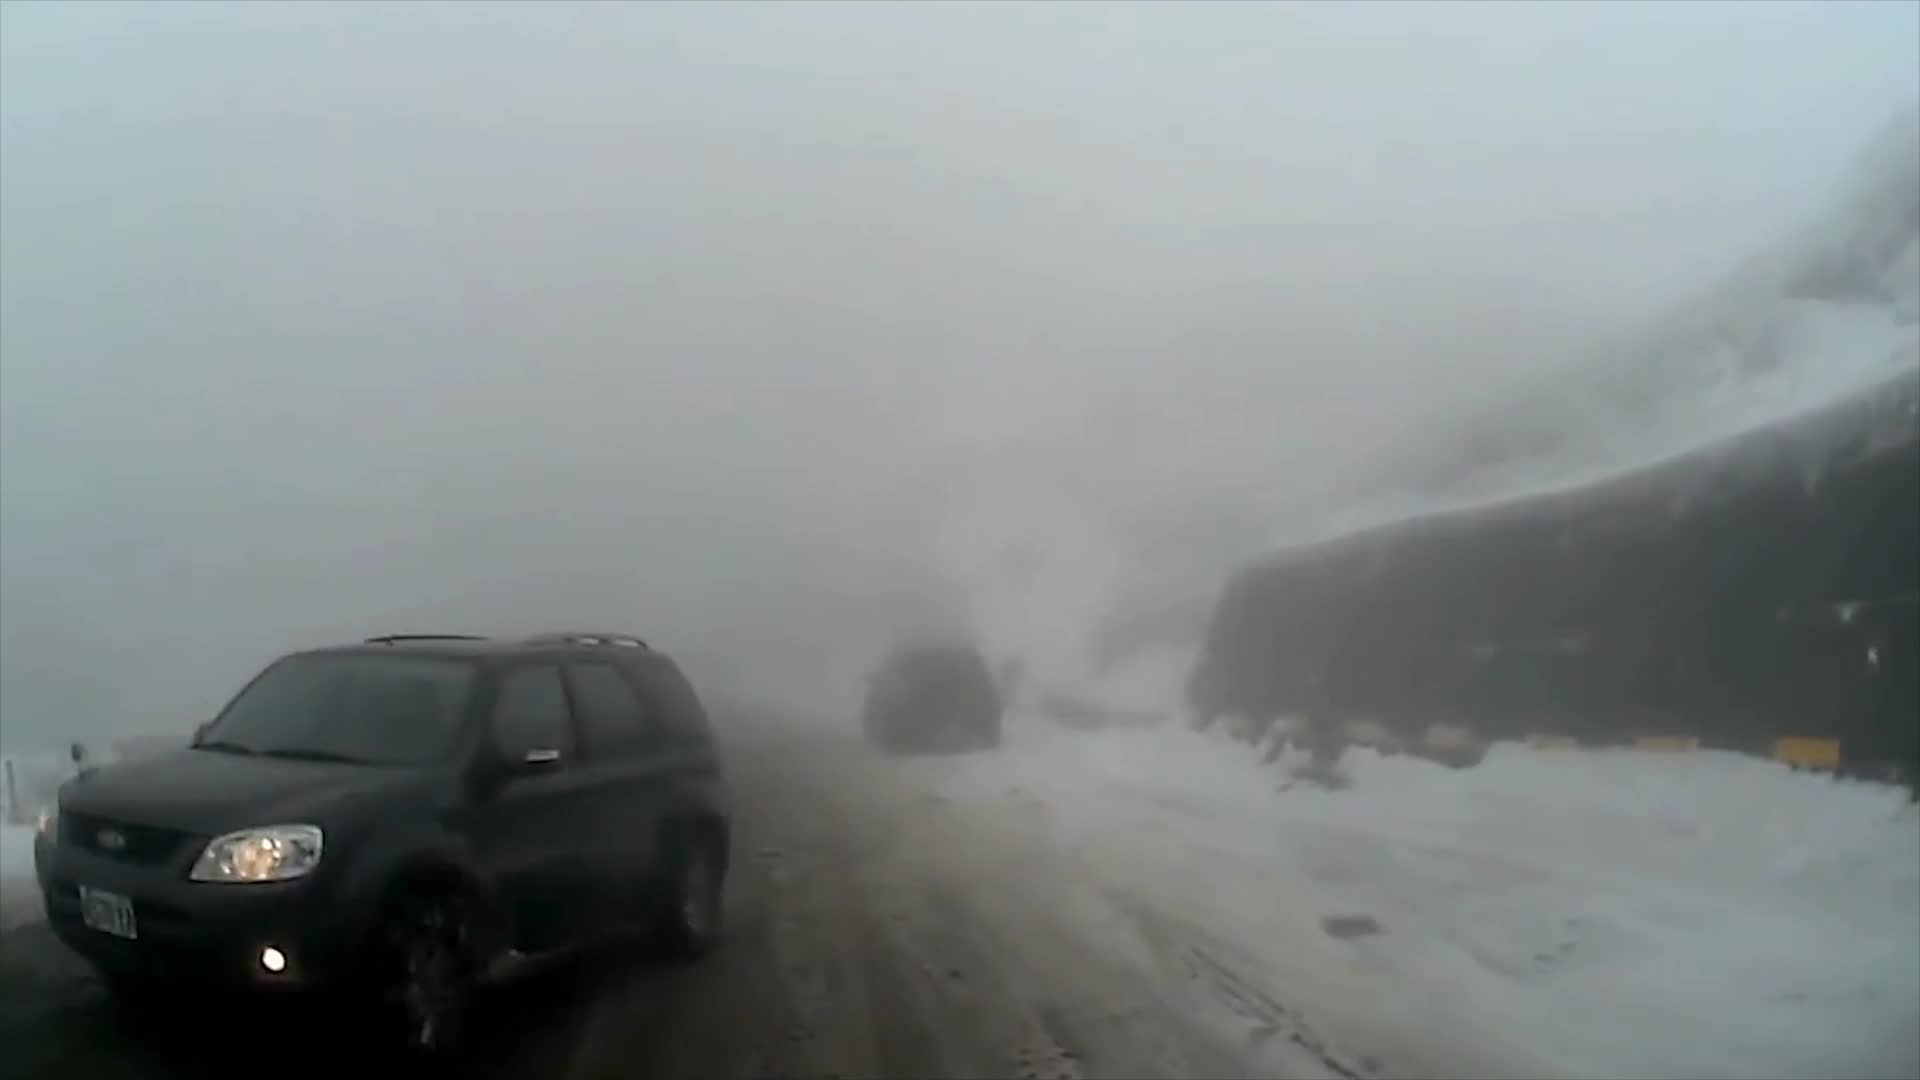vehicle: (24, 626, 732, 1058), (858, 636, 1001, 757)
